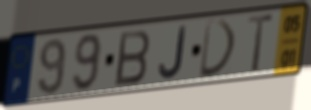9: (71, 31, 104, 93), (35, 36, 68, 97)
B: (113, 28, 152, 89)
D: (197, 18, 239, 81)
J: (157, 24, 188, 81)
T: (245, 12, 276, 75)
